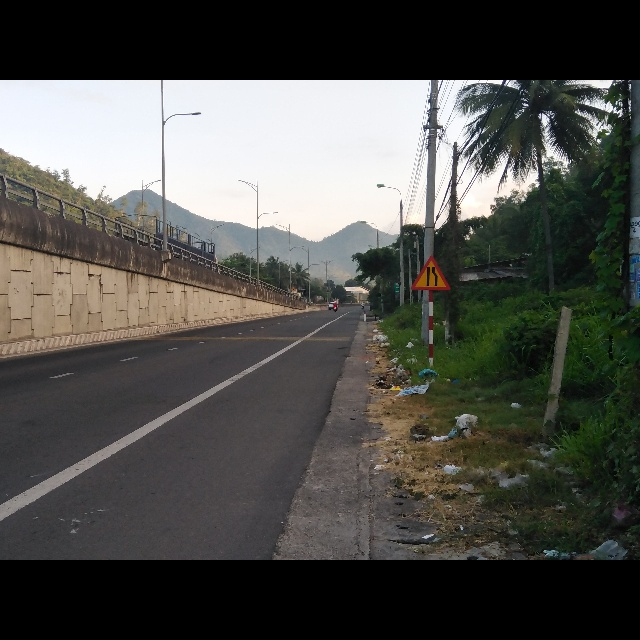Đường bị hẹp bên phải: (411, 255, 451, 291)
